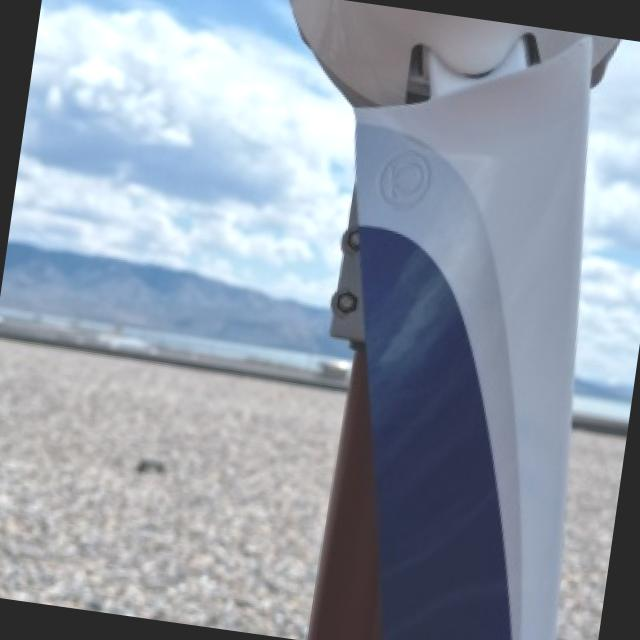healthy: (293, 0, 618, 640)
